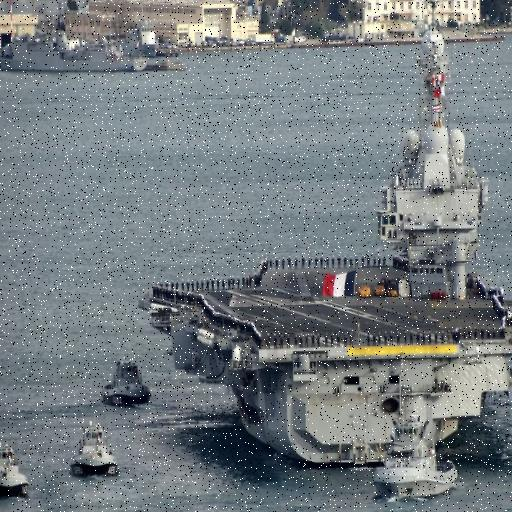Portanaves: (142, 1, 512, 470)
